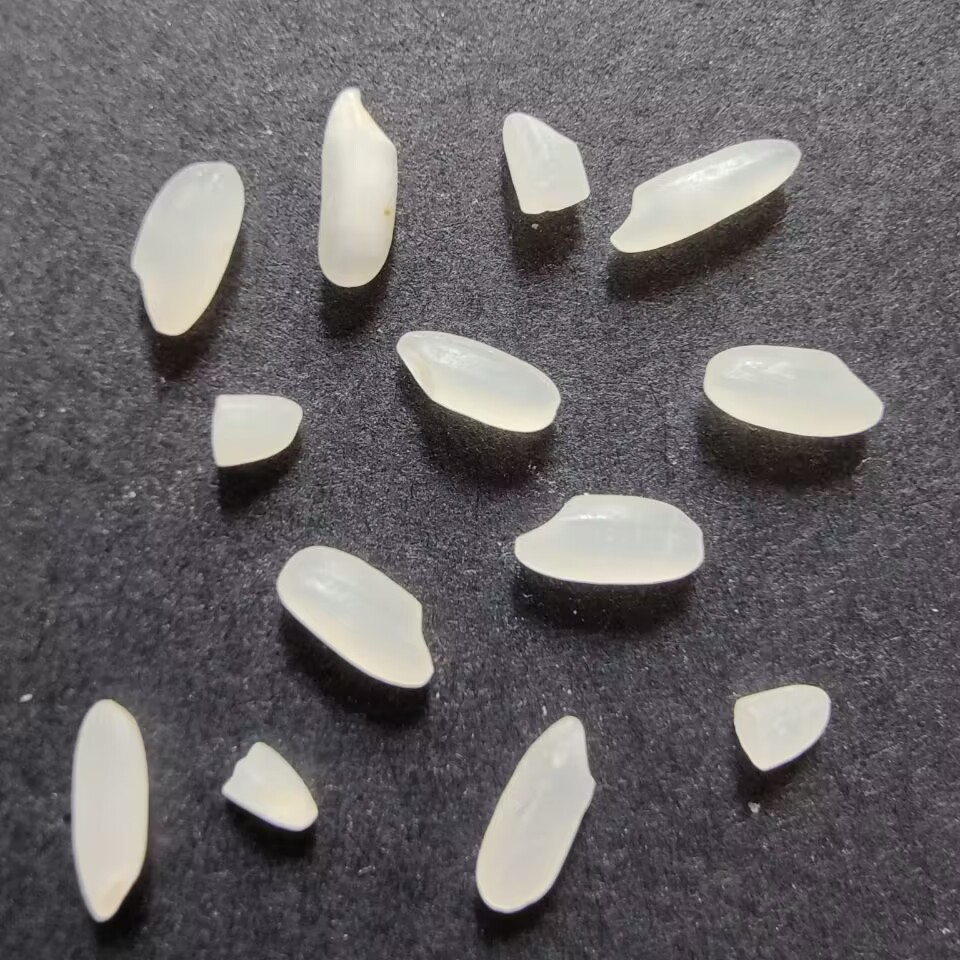broken: (214, 732, 325, 836), (494, 106, 593, 219), (723, 680, 834, 778), (201, 386, 308, 478)
rice: (471, 713, 601, 918), (268, 542, 438, 694), (605, 133, 803, 260), (122, 156, 246, 343), (63, 693, 158, 927), (503, 487, 708, 587), (391, 324, 565, 436), (313, 79, 402, 297), (701, 341, 888, 440)
